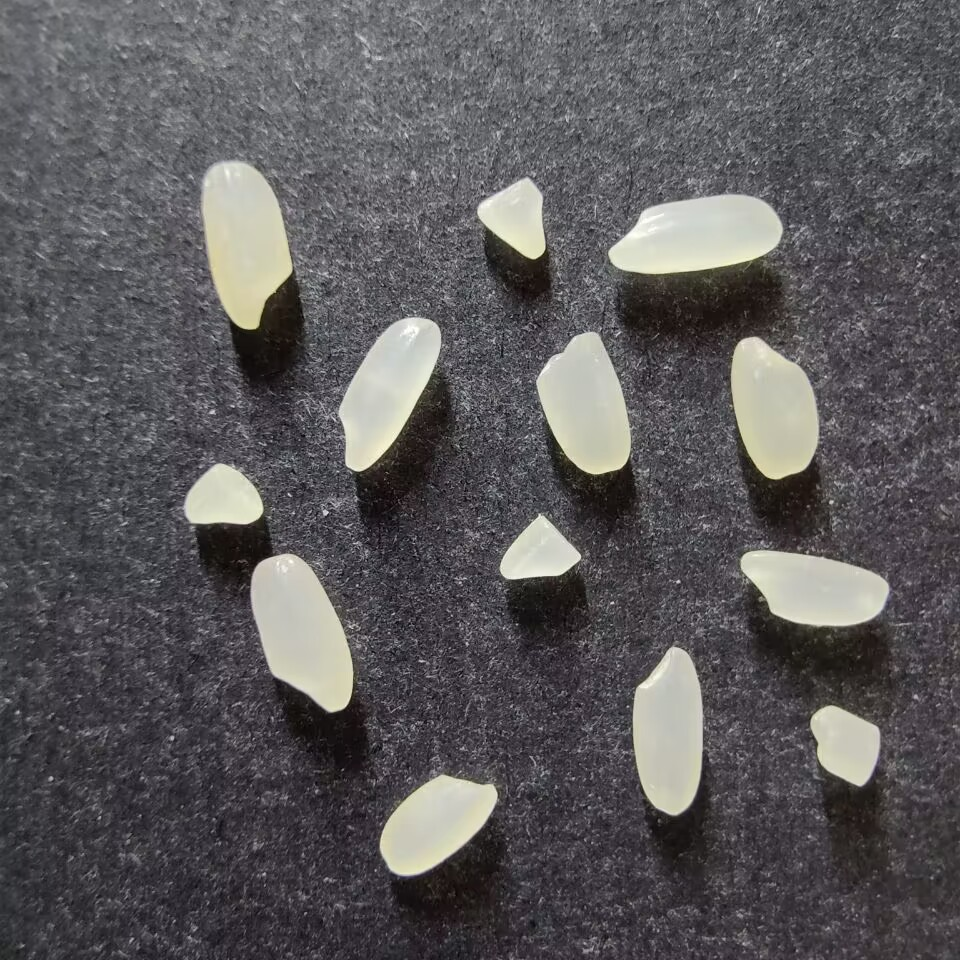broken: (809, 705, 880, 786), (476, 177, 545, 259), (499, 513, 582, 580), (182, 463, 264, 525)
rice: (249, 553, 354, 712), (337, 316, 441, 472), (201, 159, 293, 330), (607, 194, 783, 274), (535, 331, 631, 474), (730, 336, 819, 479), (631, 646, 702, 816), (379, 775, 498, 876), (739, 550, 889, 626)
